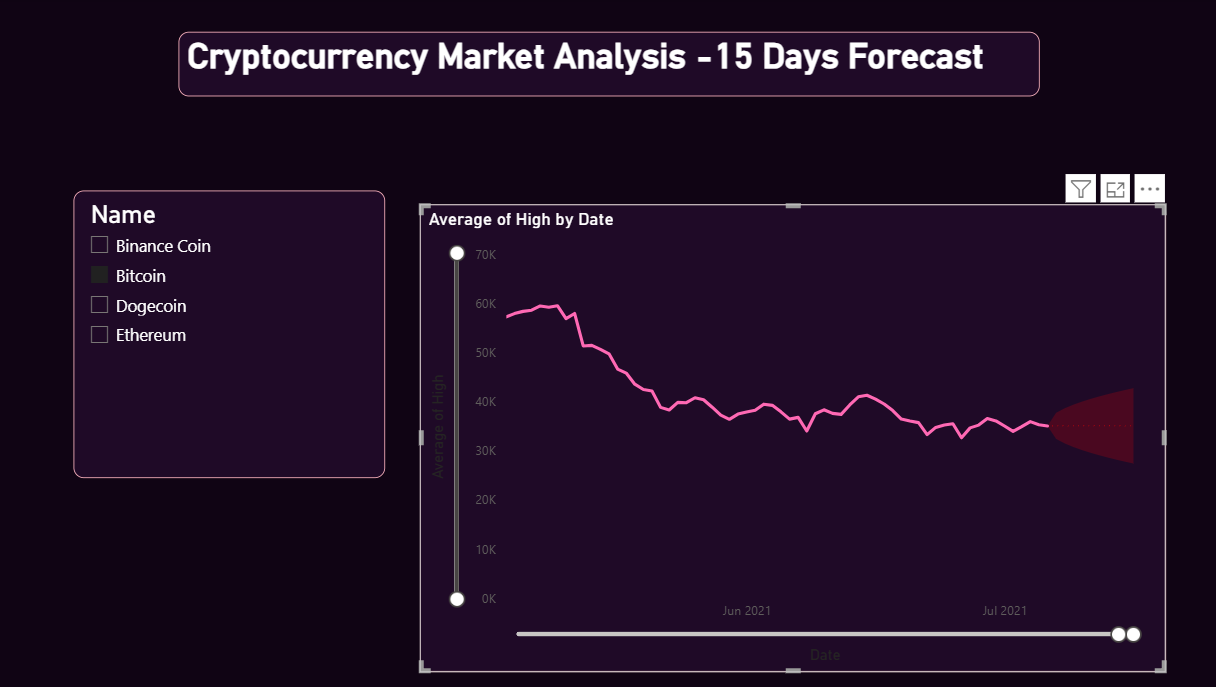

The dashboard page shown, as its layout file describes it:
{"tool":"powerbi","page":{"name":"Page 2","canvas":[1280,720],"ordinal":1},"visuals":[{"type":"lineChart","fields":{"Category":["crypto analysis.Date"],"Y":["Avg(crypto analysis.High)"]},"box":[447.6,199.1,720.2,451.2],"z":0},{"type":"slicer","fields":{"Values":["crypto analysis.Name"]},"box":[113.4,185.8,300.4,277.5],"z":1000}]}

Visuals, with their boxes in screenshot pixels (x1, y1, x2, y2), scaled from the page's 1280x720 canvas onto the 1216x687 screenshot:
lineChart - crypto analysis.Date x Avg(crypto analysis.High): BBox(425, 190, 1109, 620)
slicer - crypto analysis.Name: BBox(108, 177, 393, 442)
